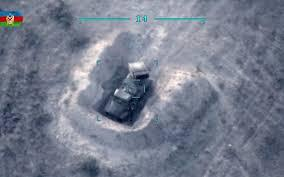MIL_SAM_TEL: (102, 62, 154, 124)
